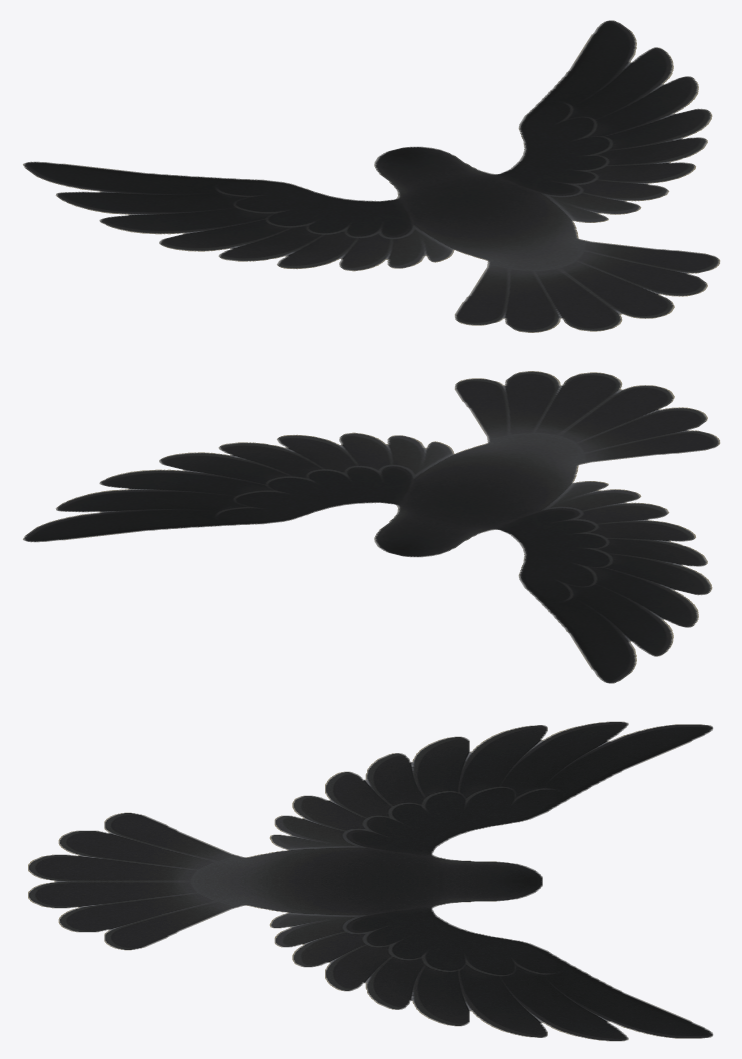
Rendered from Bird.fbx.
The picture shows the model from 3 angles, top to bottom: view 1: azimuth 30°, elevation 25°; view 2: azimuth 150°, elevation 25°; view 3: azimuth 270°, elevation 25°; orthographic projection. The views are drawn at different scales.
Parts seen in each view (by area): view 1: Bird; view 2: Bird; view 3: Bird.
Boxes of the visible parts, x1,y1,x2,y2 form: Bird: [23, 20, 720, 332]; Bird: [23, 371, 720, 683]; Bird: [28, 721, 713, 1041].
Size of the model in its own units: 186 by 0 by 172.
